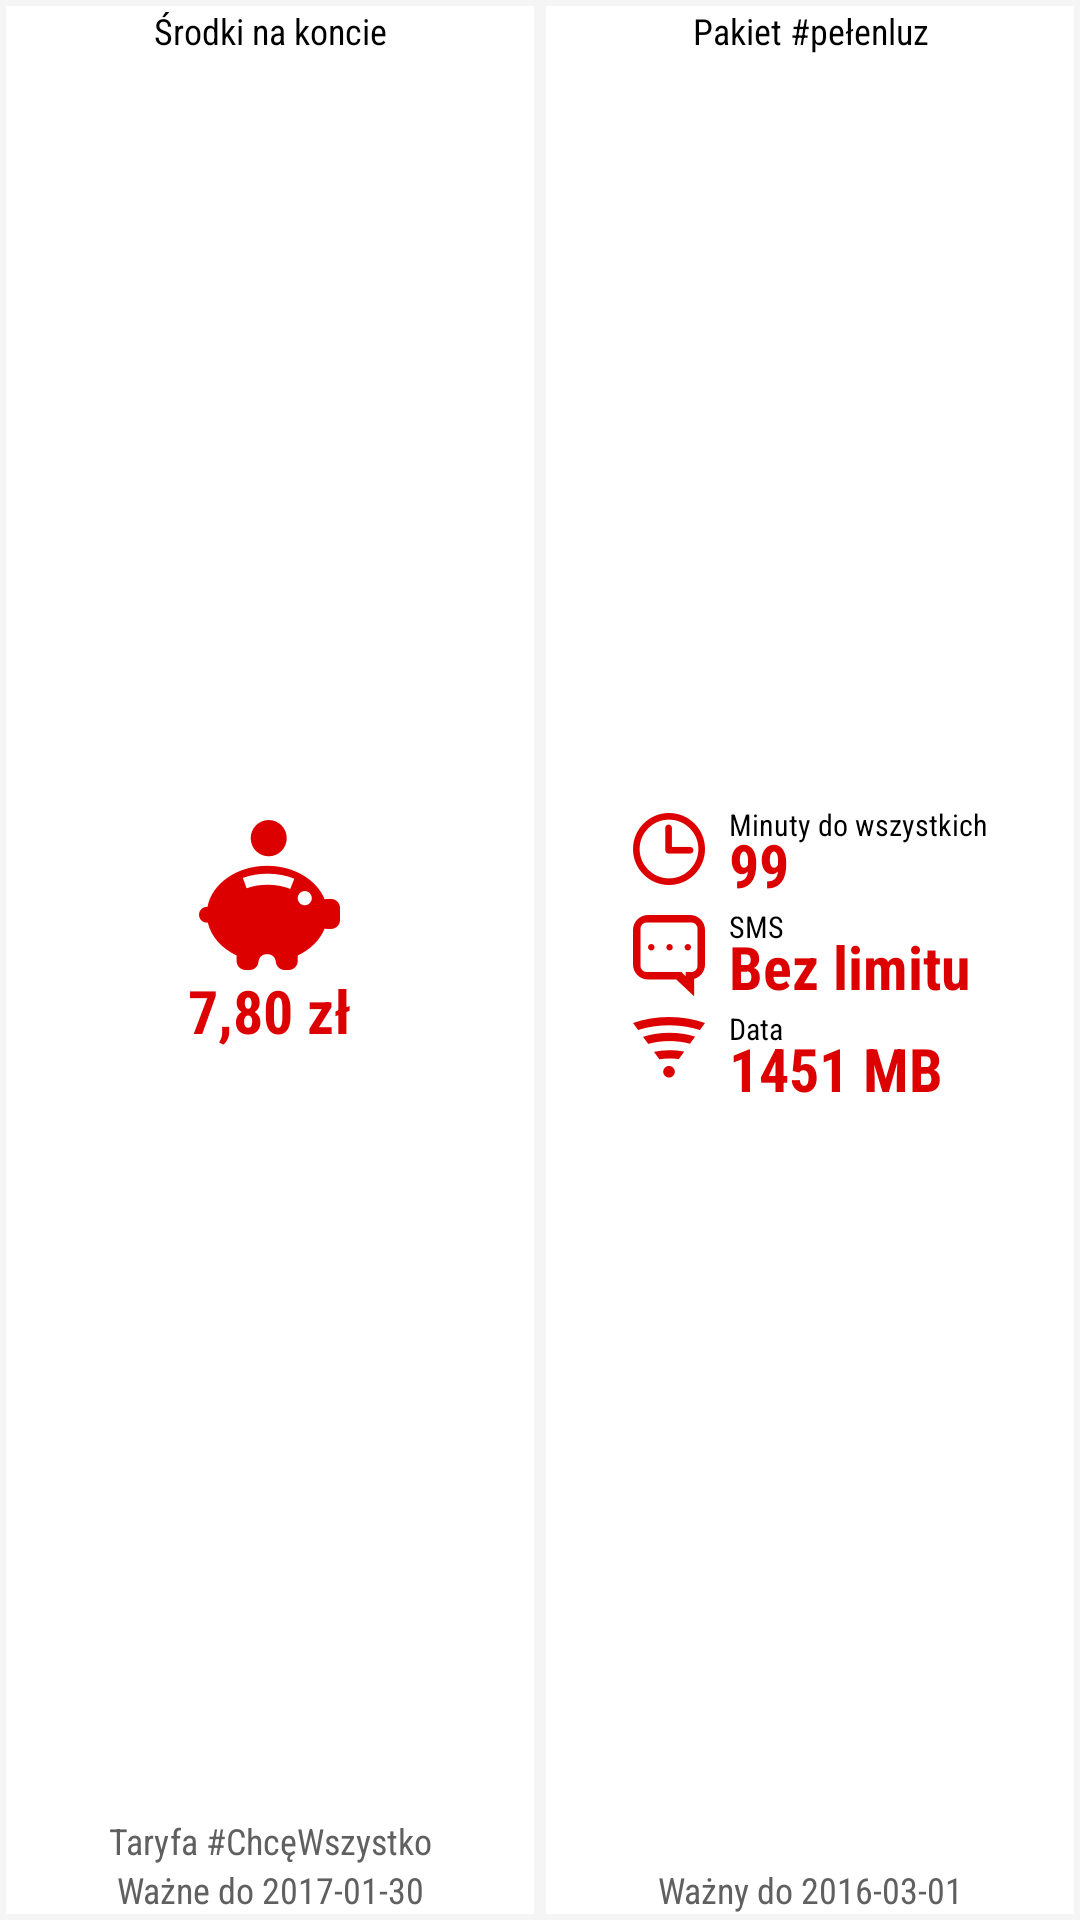

Screen size 1080px×1920px. Icon name, then its box in pixels as (x1, y1, x2, y2):
piggy: (199, 820, 340, 970)
